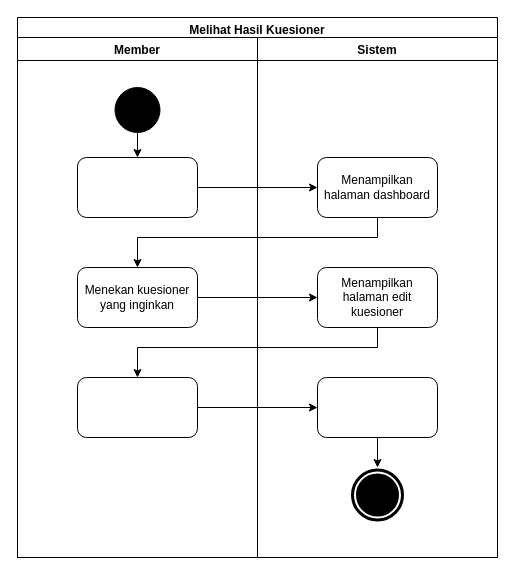
The diagram is 515 pixels wide and 575 high, and some of its shapes have lost their labels. Here are the shapes that lost their labels. From the top down, the centre of each, then its label:
At [137,187]: "Membuka halaman dashboard".
At [137,407]: "Menekan tab response".
At [377,407]: "Menampilkan hasil kuesioner".
